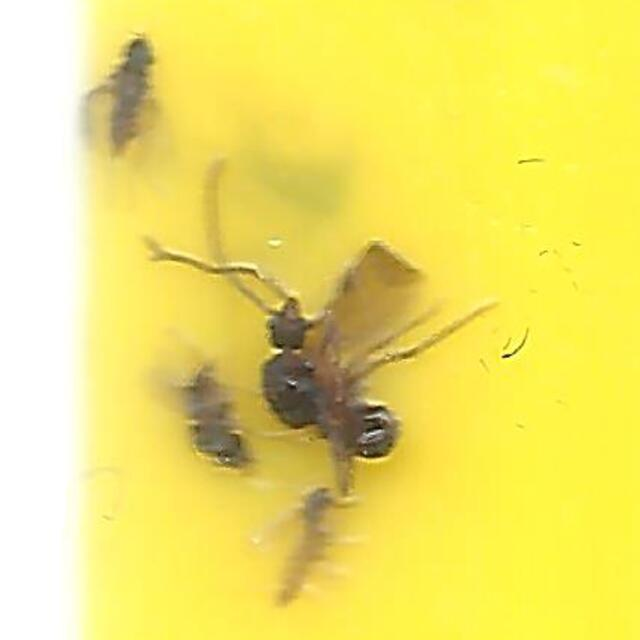Hymenoptera: (149, 167, 491, 473)
